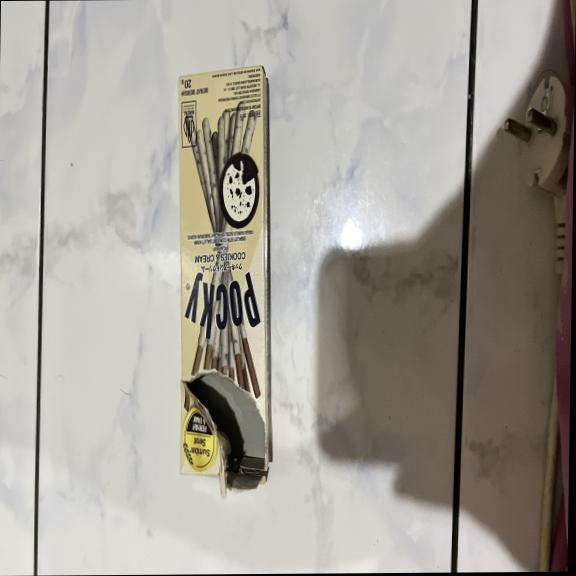Kertas: (168, 64, 277, 483)
